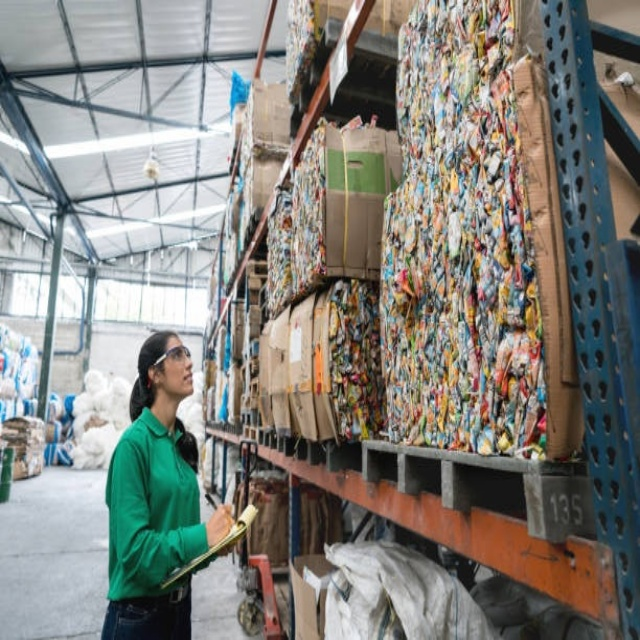Gafas: (151, 346, 191, 370)
Sin_guantes: (207, 504, 238, 549)
Sin_mascara: (173, 365, 197, 392)
